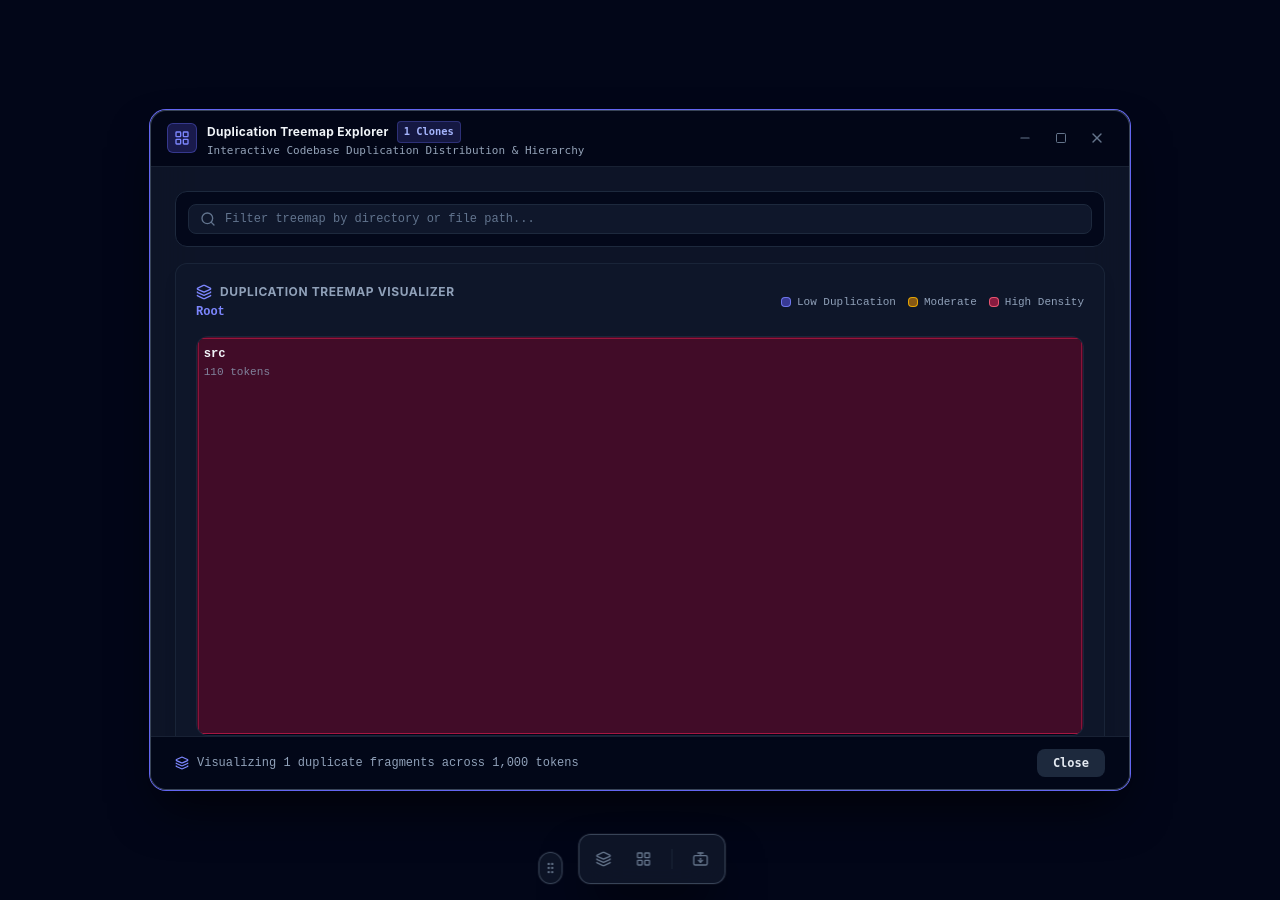
Test: TreemapExplorerModal Component › should support updating internal filter text
The width and height of the screenshot is (1280, 900).
Type "src/engine" into the field with placeholder "Filter treemap by directory or file path..." at (640, 219), box x1=188 y1=204 x2=1092 y2=234
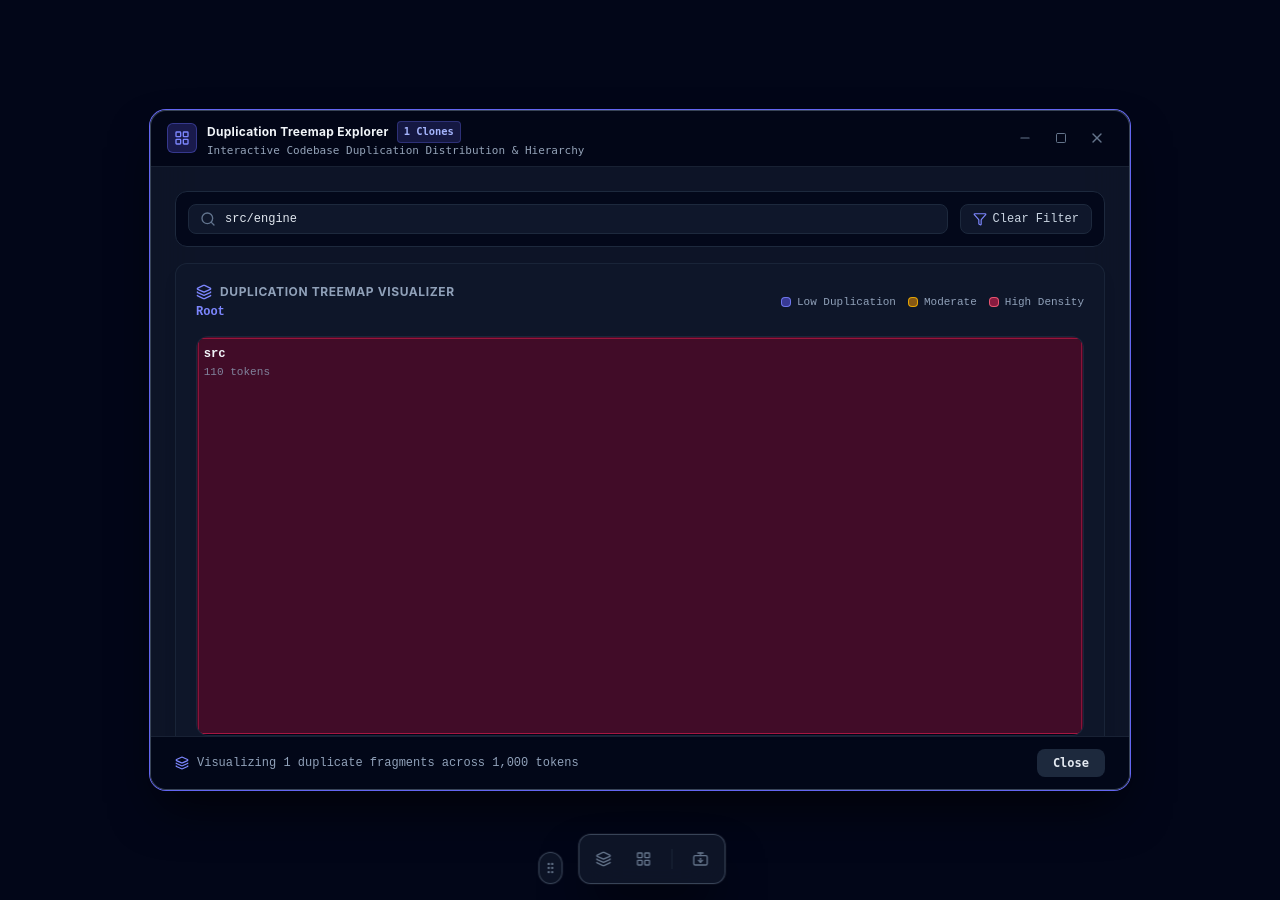
Check: the text "Clear Filter" is shown, box x1=993 y1=211 x2=1079 y2=227
